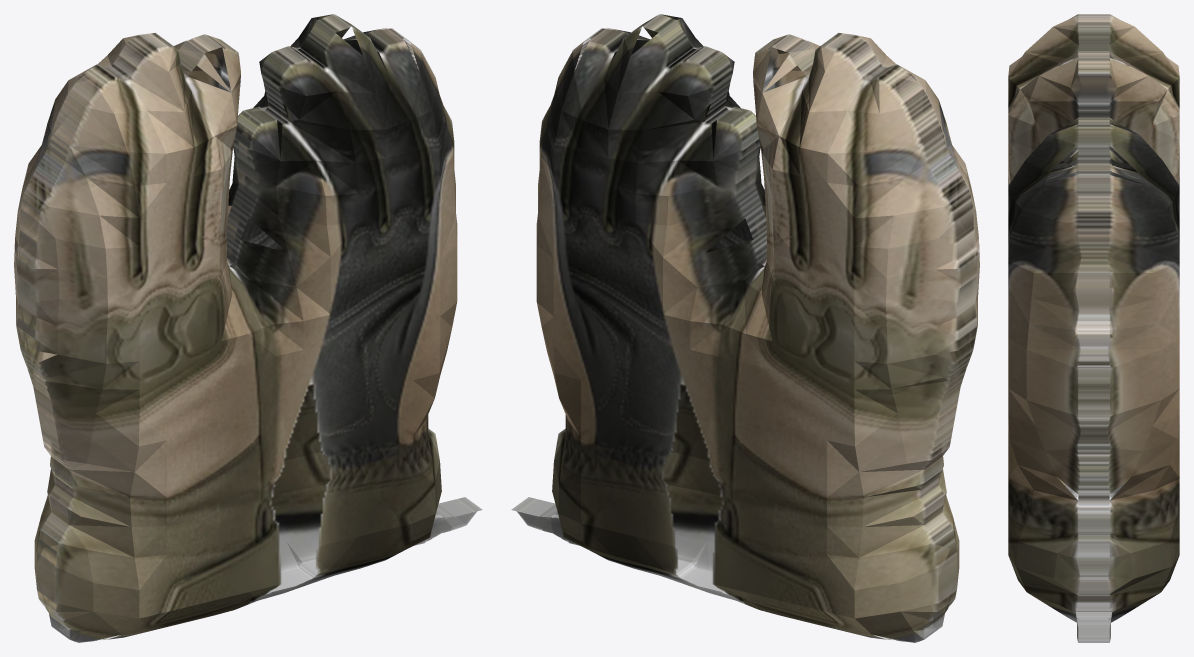
The model's file is schuberth-vector-waterproof-glove-110.glb.
3 views of the same model, side by side, from view 1: azimuth 30°, elevation 25°; view 2: azimuth 150°, elevation 25°; view 3: azimuth 270°, elevation 25° (orthographic). The views are drawn at different scales.
Visible parts, largest first — view 1: world; view 2: world; view 3: world.
Boxes of the visible parts, x1,y1,x2,y2 form: world: (14, 14, 482, 642); world: (511, 14, 979, 642); world: (1008, 14, 1179, 642).
Size of the model in its own units: 0.8098 by 1 by 0.3.
Materials: 1 (1 with a texture image).
